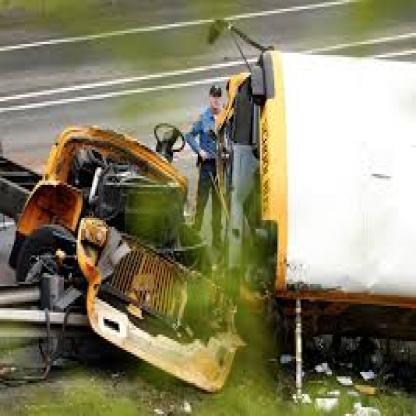accident: (0, 76, 393, 408)
